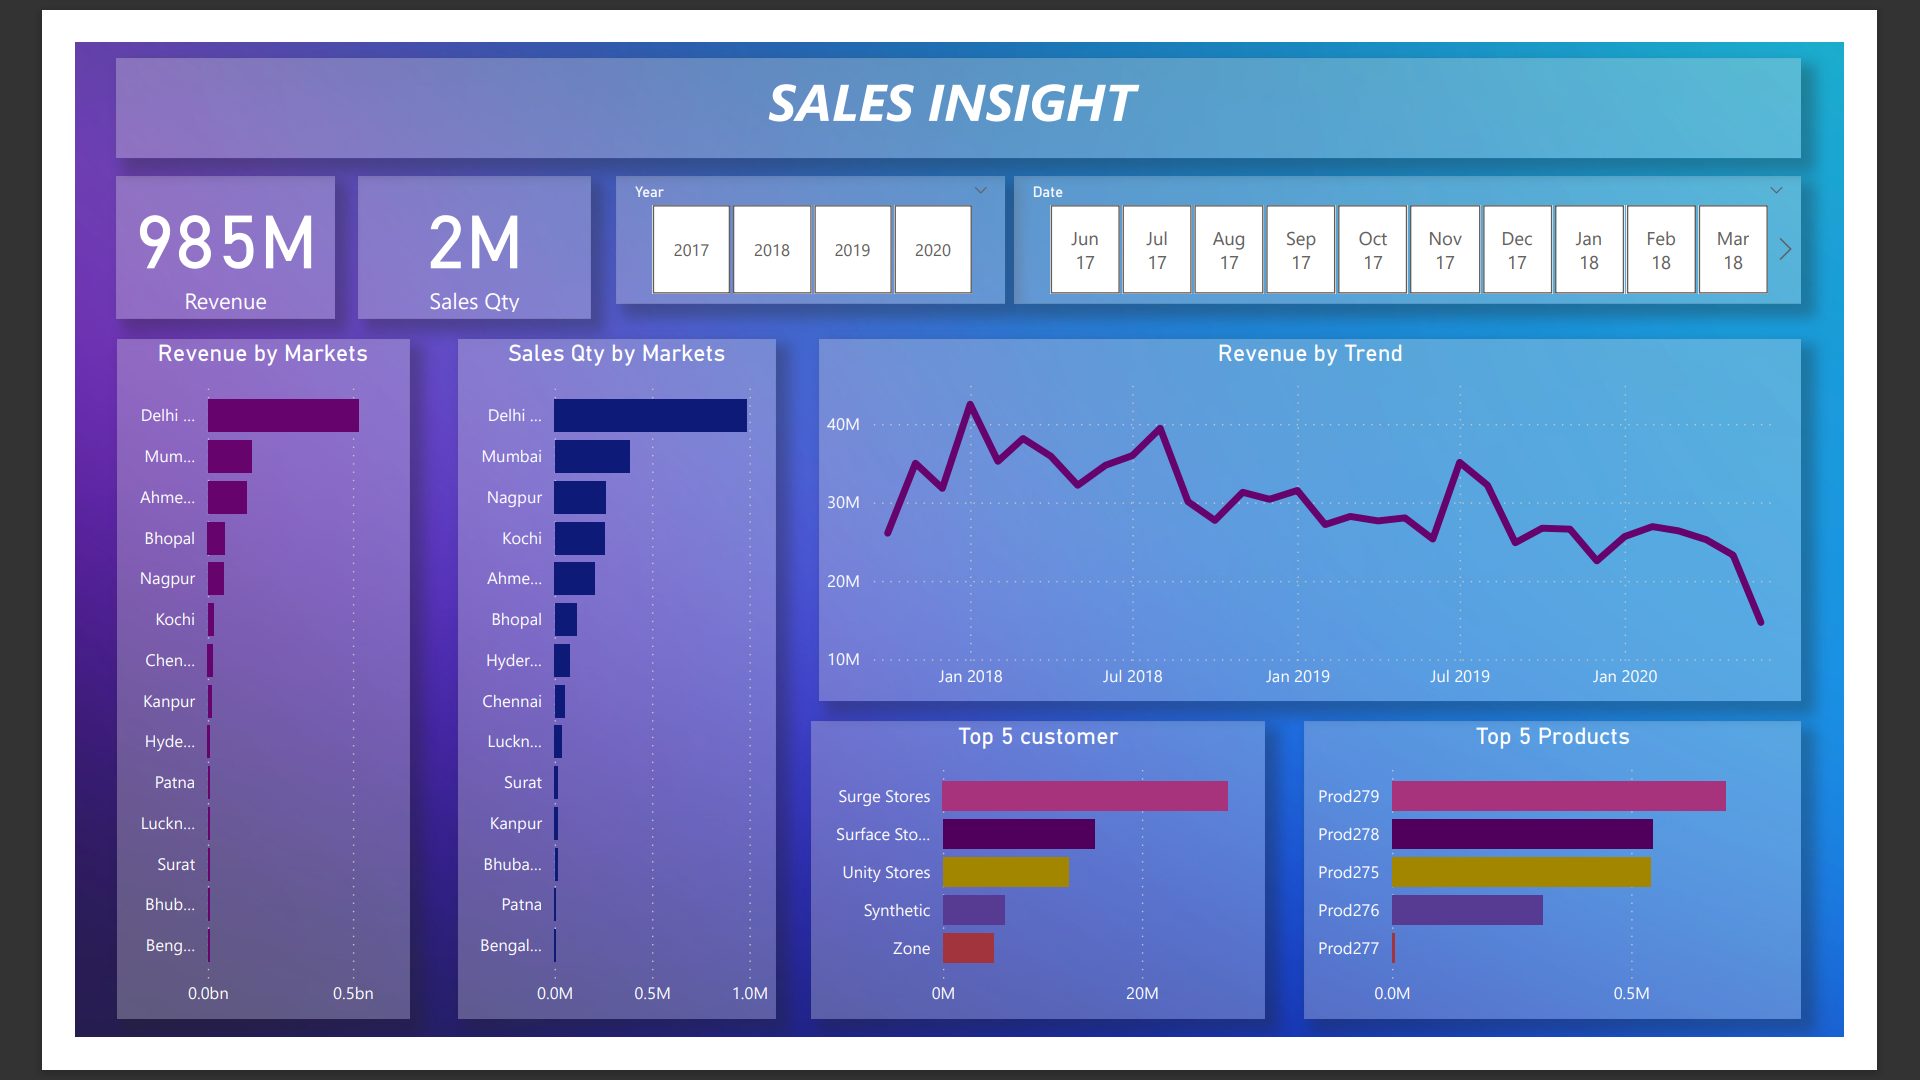

The dashboard page shown, as its layout file describes it:
{"tool":"powerbi","page":{"name":"Page 1","canvas":[1280,720],"ordinal":0},"visuals":[{"type":"card","fields":{"Values":["sales customers.Sales Qty"]},"box":[205.5,97.3,167.6,102.7],"z":0},{"type":"card","fields":{"Values":["sales customers.Revenue"]},"box":[29.7,97.3,158.2,102.7],"z":1000},{"type":"clusteredBarChart","title":"Revenue by Markets","fields":{"Category":["sales markets.markets_name"],"Y":["sales customers.Revenue"]},"box":[29.7,215,212.3,492.1],"z":2000},{"type":"barChart","title":"Sales Qty by Markets","fields":{"Category":["sales markets.markets_name"],"Y":["sales customers.Sales Qty"]},"box":[277.1,215,229.8,492.1],"z":3000},{"type":"slicer","fields":{"Values":["sales date.year"]},"box":[392.1,97.3,281.2,91.9],"z":4000},{"type":"slicer","fields":{"Values":["sales date.cy_date"]},"box":[680,97.3,569.2,91.9],"z":5000},{"type":"barChart","title":"Top 5 Products","fields":{"Y":["sales customers.Revenue"],"Category":["sales products.product_code"]},"box":[889.6,492.1,359.6,215],"z":6000},{"type":"barChart","title":"Top 5 customer","fields":{"Y":["sales customers.Revenue"],"Category":["sales customers.custmer_name"]},"box":[532.7,492.1,328.5,215],"z":7000},{"type":"lineChart","title":"Revenue by Trend","fields":{"Category":["sales date.cy_date.Variation.Date Hierarchy.Year","sales date.cy_date.Variation.Date Hierarchy.Quarter","sales date.cy_date.Variation.Date Hierarchy.Month","sales date.cy_date.Variation.Date Hierarchy.Day"],"Y":["sales customers.Revenue"]},"box":[539.4,215,709.8,262.3],"z":8000},{"type":"textbox","box":[29.7,12.2,1219.4,71.7],"z":9000}]}

Visuals, with their boxes in screenshot pixels (x1, y1, x2, y2), scaled from the page's 1280x720 canvas onto the 1920x1080 screenshot:
card - sales customers.Sales Qty: Rect(308, 146, 560, 300)
card - sales customers.Revenue: Rect(45, 146, 282, 300)
"Revenue by Markets" clusteredBarChart: Rect(45, 322, 363, 1061)
"Sales Qty by Markets" barChart: Rect(416, 322, 760, 1061)
slicer - sales date.year: Rect(588, 146, 1010, 284)
slicer - sales date.cy_date: Rect(1020, 146, 1874, 284)
"Top 5 Products" barChart: Rect(1334, 738, 1874, 1061)
"Top 5 customer" barChart: Rect(799, 738, 1292, 1061)
"Revenue by Trend" lineChart: Rect(809, 322, 1874, 716)
textbox: Rect(45, 18, 1874, 126)
